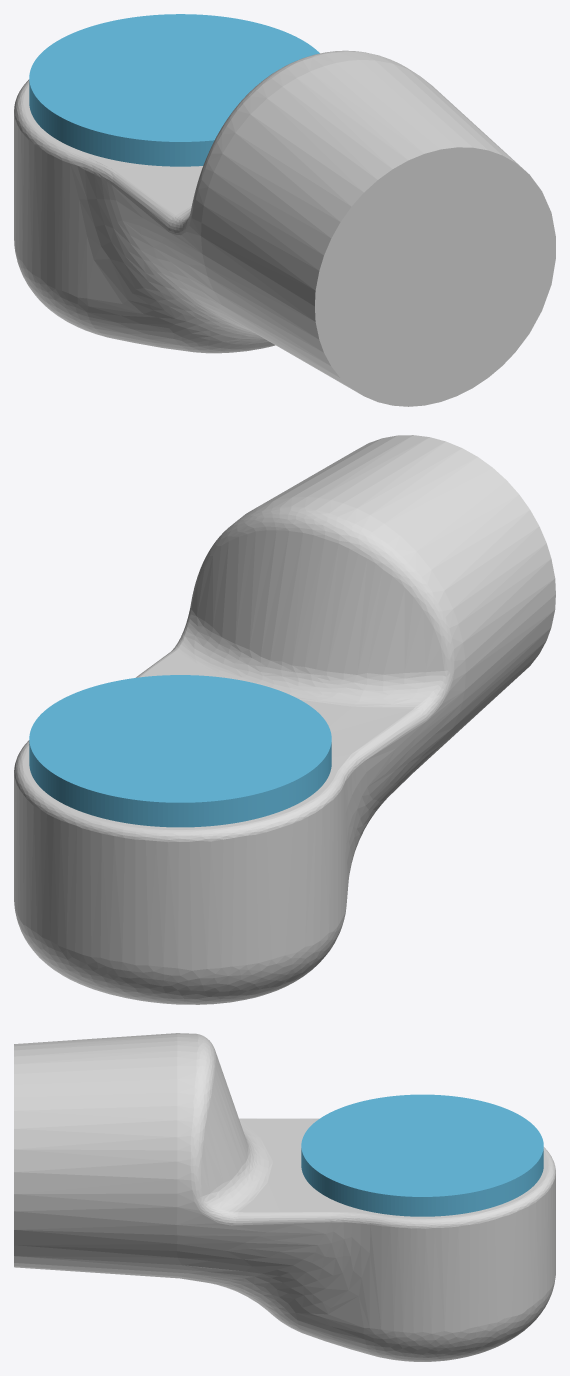
3 views of the same model, one above another, from view 1: azimuth 30°, elevation 25°; view 2: azimuth 150°, elevation 25°; view 3: azimuth 270°, elevation 25° (orthographic). The views are drawn at different scales.
Parts seen in each view (by area): view 1: Untitled_006_001, Untitled_006; view 2: Untitled_006_001, Untitled_006; view 3: Untitled_006_001, Untitled_006.
Boxes of the visible parts, x1=… form: Untitled_006_001: x1=14, y1=50, x2=555, y2=406; Untitled_006: x1=29, y1=14, x2=319, y2=166; Untitled_006_001: x1=14, y1=435, x2=555, y2=1004; Untitled_006: x1=29, y1=675, x2=331, y2=827; Untitled_006_001: x1=14, y1=1033, x2=555, y2=1361; Untitled_006: x1=301, y1=1094, x2=543, y2=1216.
Size of the model in its own units: 0.098 by 0.199 by 0.1131.
